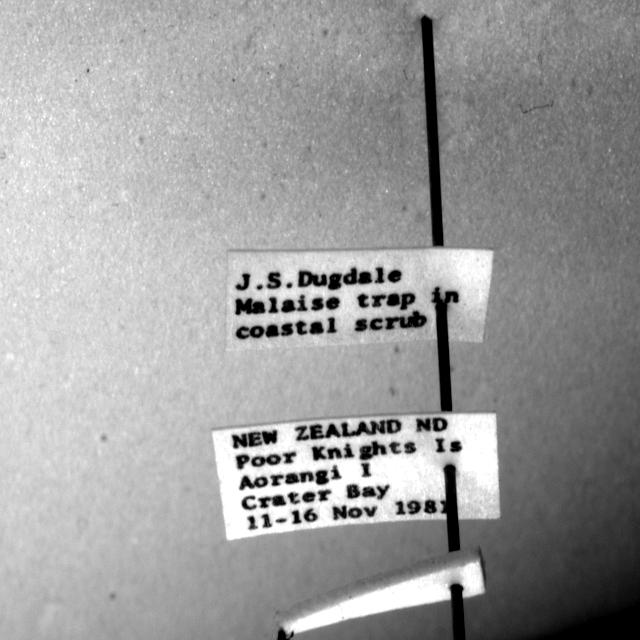typed_label: (212, 412, 500, 540), (226, 248, 492, 349)
